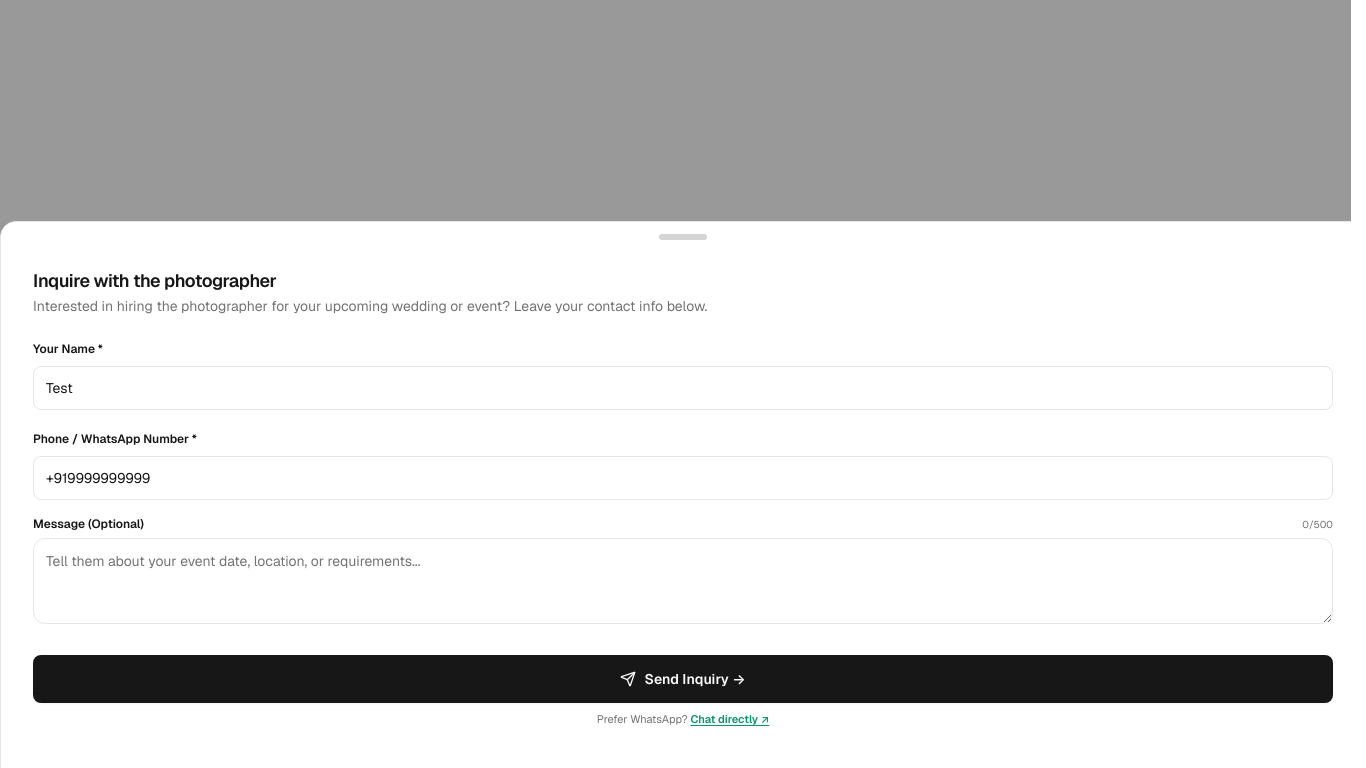
Scenario: InquiryModal component › handles 429 rate limit error gracefully
Click the button "Send Inquiry →" at [683, 678], box top-left (33, 654), bottom-right (1333, 702)
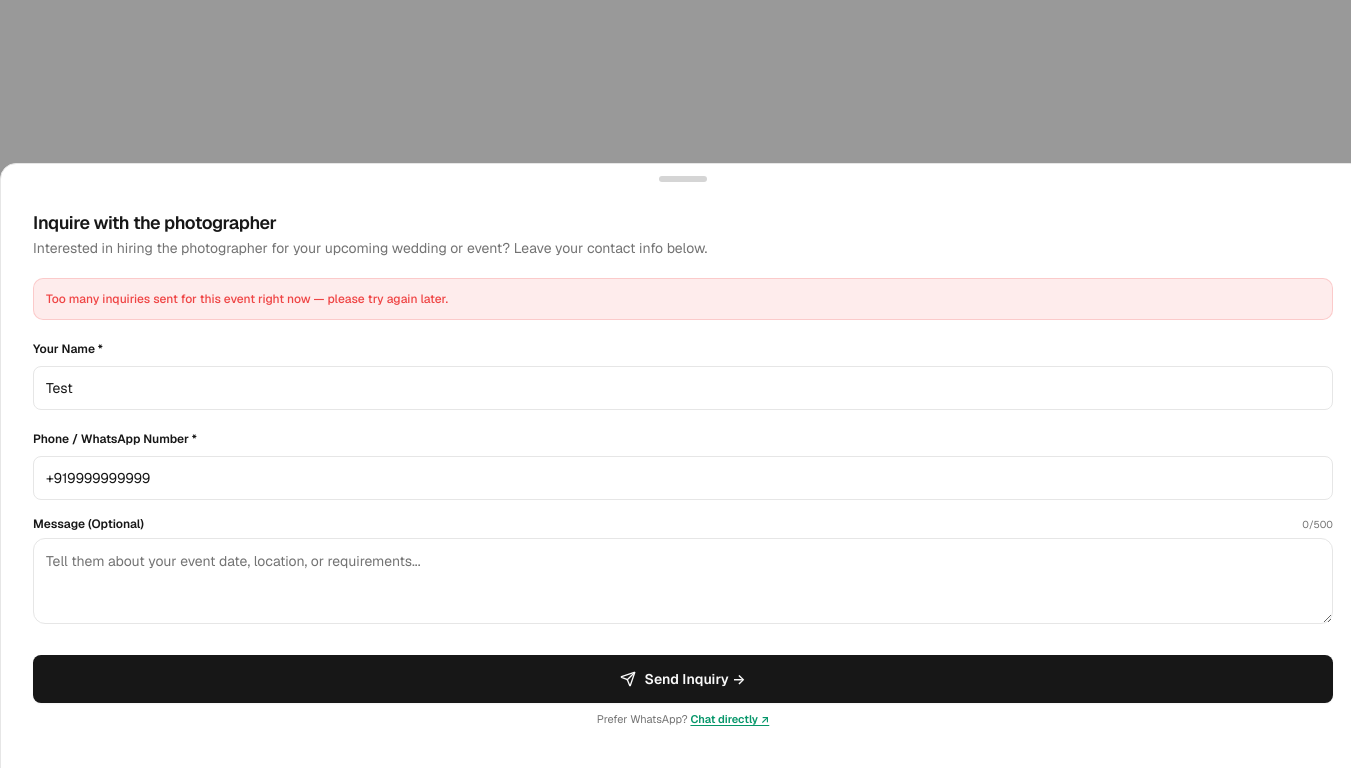
Check: the text "Too many inquiries sent for this event right now — please try again later." is shown, box top-left (33, 278), bottom-right (1333, 320)
